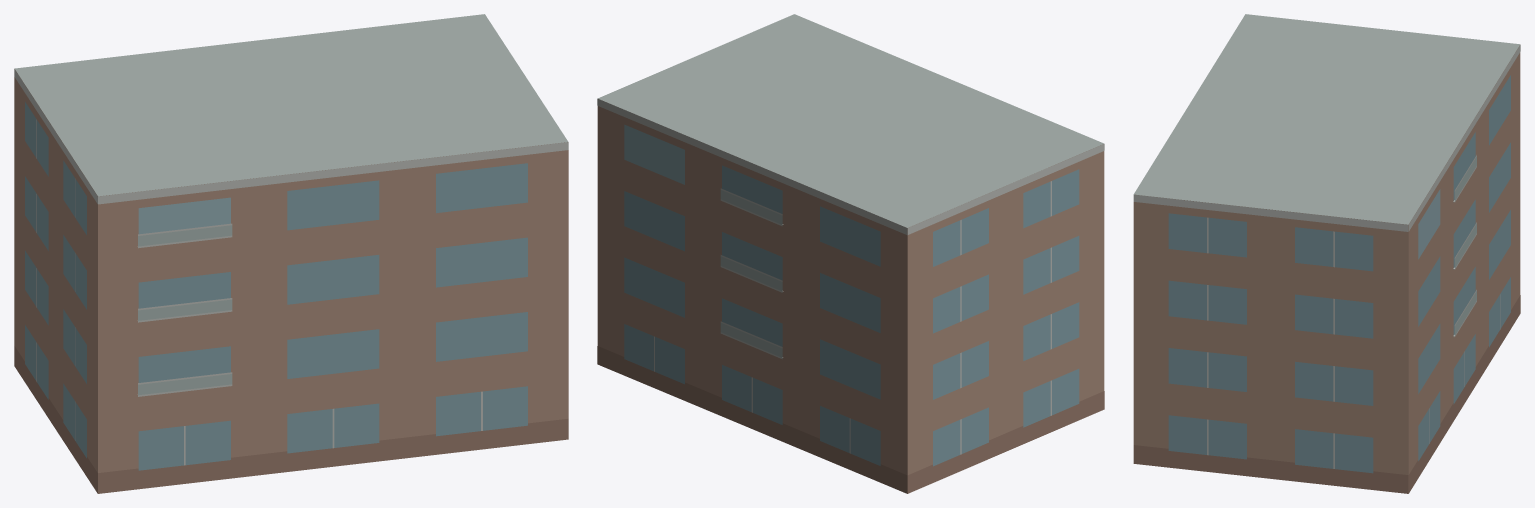
The model's file is survey-upis-32810971.glb.
3 views of the same model, side by side, from view 1: azimuth 30°, elevation 25°; view 2: azimuth 150°, elevation 25°; view 3: azimuth 270°, elevation 25° (orthographic). The views are drawn at different scales.
Parts seen in each view (by area): view 1: survey-upis-32810971.tmp; view 2: survey-upis-32810971.tmp; view 3: survey-upis-32810971.tmp.
Boxes of the visible parts, x1=… form: survey-upis-32810971.tmp: x1=14, y1=14, x2=568, y2=493; survey-upis-32810971.tmp: x1=597, y1=14, x2=1104, y2=493; survey-upis-32810971.tmp: x1=1133, y1=14, x2=1520, y2=493.
Size of the model in its own units: 15.03 by 8.95 by 11.67.
